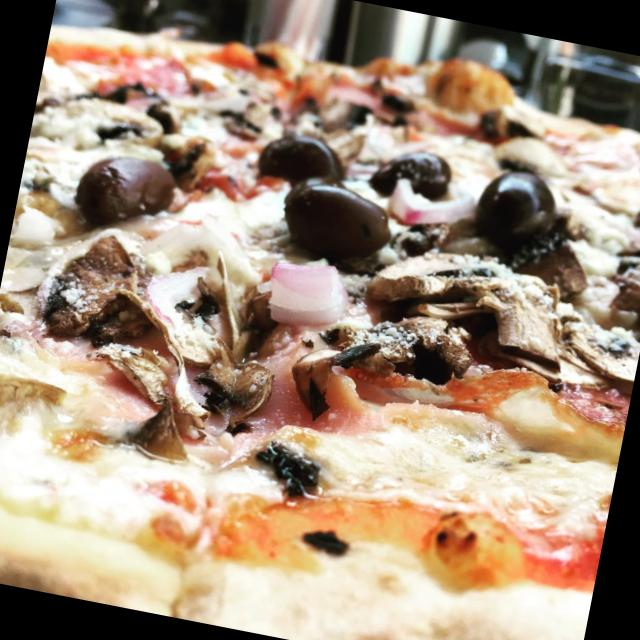black_olives: (274, 175, 398, 272), (67, 140, 183, 234), (464, 160, 568, 264), (371, 133, 456, 210), (255, 123, 345, 190)
mushrooms: (15, 222, 291, 479), (281, 293, 490, 441), (367, 232, 582, 374), (548, 307, 640, 392)
pizza: (0, 28, 640, 640)
